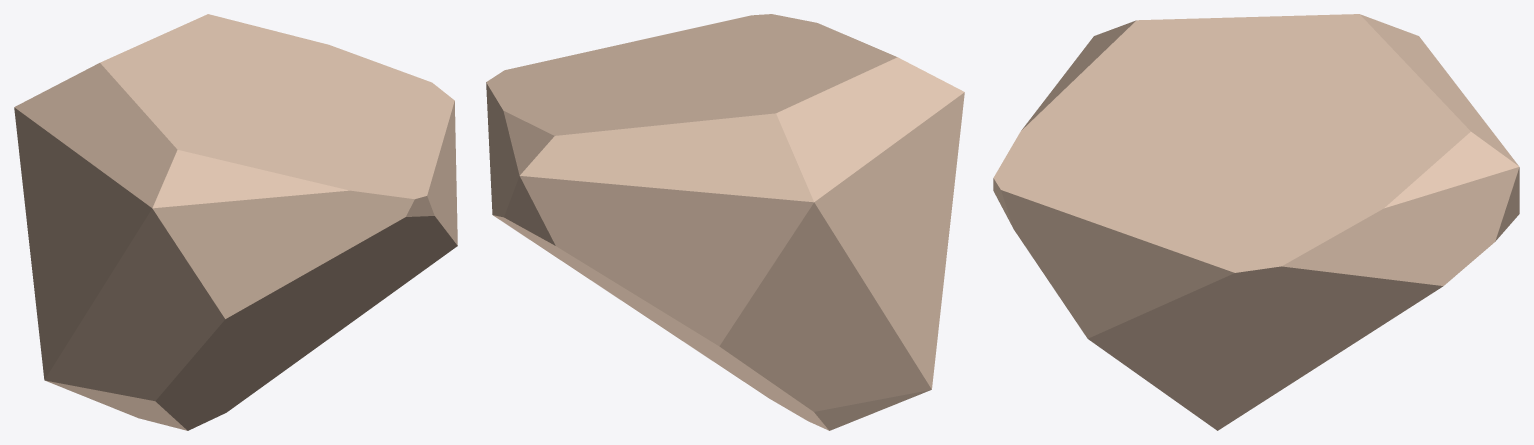
File: rock_10.fbx
3 renders of one model, left to right at view 1: azimuth 30°, elevation 25°; view 2: azimuth 150°, elevation 25°; view 3: azimuth 270°, elevation 25°, orthographic. The views are drawn at different scales.
Parts seen in each view (by area): view 1: rock_10; view 2: rock_10; view 3: rock_10.
Boxes of the visible parts, x1,y1,x2,y2 form: rock_10: (14, 14, 457, 430); rock_10: (486, 14, 964, 430); rock_10: (993, 14, 1519, 430).
Size of the model in its own units: 58.59 by 46.39 by 56.54.
1 material, 1 textured.
